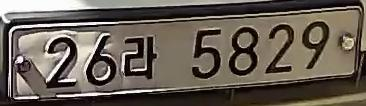2: (41, 35, 82, 88), (261, 20, 298, 75)
5: (188, 26, 225, 81)
6: (83, 31, 118, 87)
8: (226, 22, 263, 79)
9: (298, 19, 333, 72)
라: (117, 32, 159, 80)
